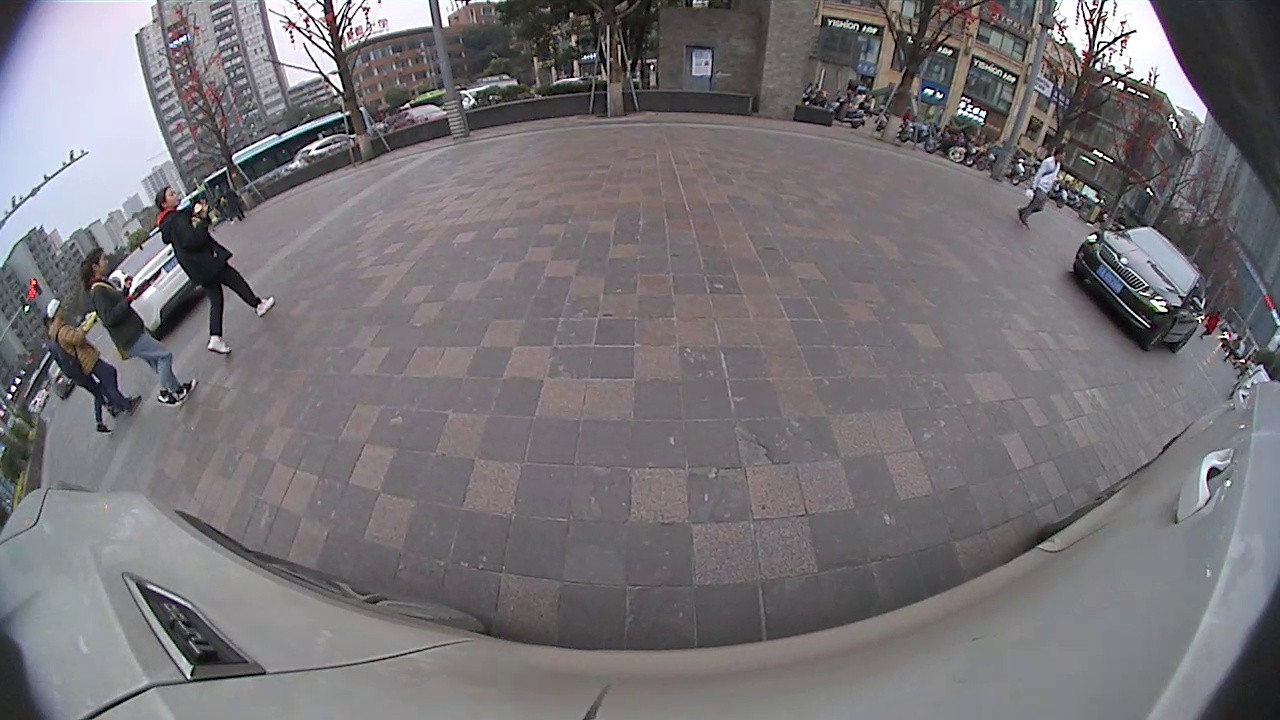bus: (201, 105, 366, 214)
car: (1072, 224, 1207, 355), (106, 226, 208, 342)
front: (1143, 316, 1178, 353)
person: (155, 185, 197, 356), (81, 244, 121, 412), (47, 297, 73, 435), (1039, 146, 1067, 222)
